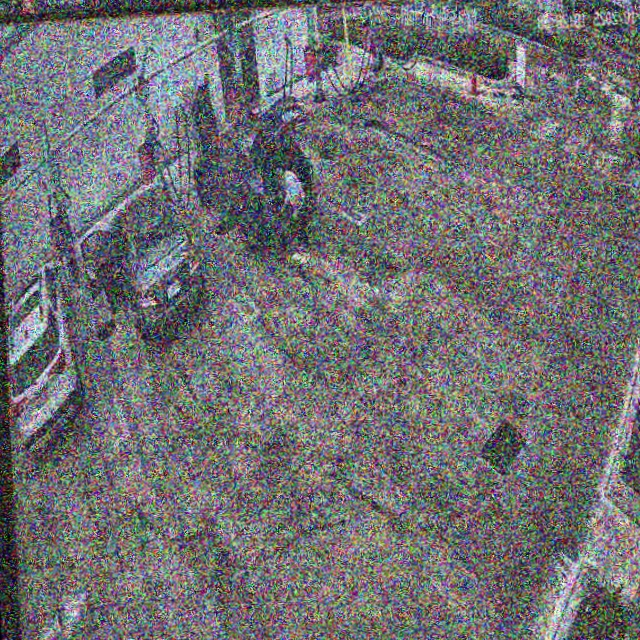Car: (191, 92, 316, 251), (86, 186, 205, 336)
